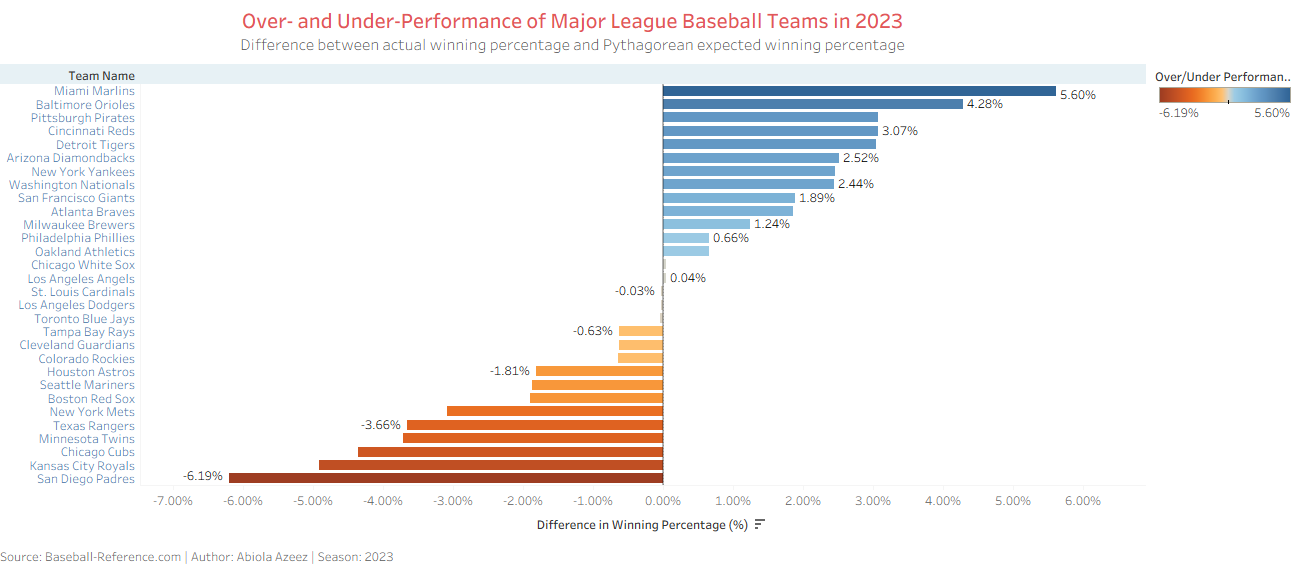

The page's visual inventory and layout, read from the dashboard file:
{"tool":"tableau","page":{"name":"Dashboard 3","canvas":[1000,800],"ordinal":2},"visuals":[{"type":"title","box":[8,8,984,42]},{"type":"worksheet","title":"Sheet 1","mark":"Automatic","rows":["Tm"],"cols":["Calculation_1140501410082816"],"box":[8,50,824,371]},{"type":"legend","title":"Sheet 1","param":"[federated.1s9fc4u0pm689o1gdeifg1fbttaf].[sum:Calculation_1140501410082816:qk]","box":[832,50,160,65]},{"type":"worksheet","title":"Sheet 2","mark":"Circle","rows":["Tm"],"cols":["Calculation_0150940995805184"],"box":[8,421,984,371]}]}

Visuals, with their boxes on the page's 1000x800 design canvas (x1, y1, x2, y2). These are canvas units, not pixel positions in the 1295x565 screenshot, which may show the page scaled, cropped or inside an application window:
title: detection(8, 8, 992, 50)
"Sheet 1" worksheet: detection(8, 50, 832, 421)
"Sheet 1" legend: detection(832, 50, 992, 115)
"Sheet 2" worksheet (Circle marks): detection(8, 421, 992, 792)
